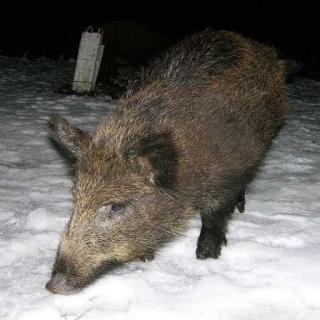Pig: (26, 20, 314, 302)
